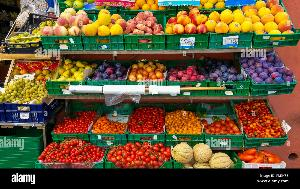apricot: (128, 58, 166, 84)
grape: (0, 77, 54, 109)
lime: (0, 18, 58, 48)
melon: (174, 140, 235, 170)
peach: (204, 0, 300, 42), (43, 8, 89, 42), (126, 10, 166, 40), (168, 7, 209, 35), (88, 8, 120, 38)
pear: (57, 57, 92, 83)
plum: (240, 42, 296, 87), (203, 54, 245, 84), (168, 58, 204, 84), (96, 56, 128, 81)
tomato: (34, 140, 106, 168), (237, 96, 283, 138), (107, 146, 173, 170), (50, 106, 98, 136), (240, 144, 288, 170), (127, 104, 167, 134), (166, 106, 204, 134), (204, 112, 238, 142), (92, 111, 130, 136)
